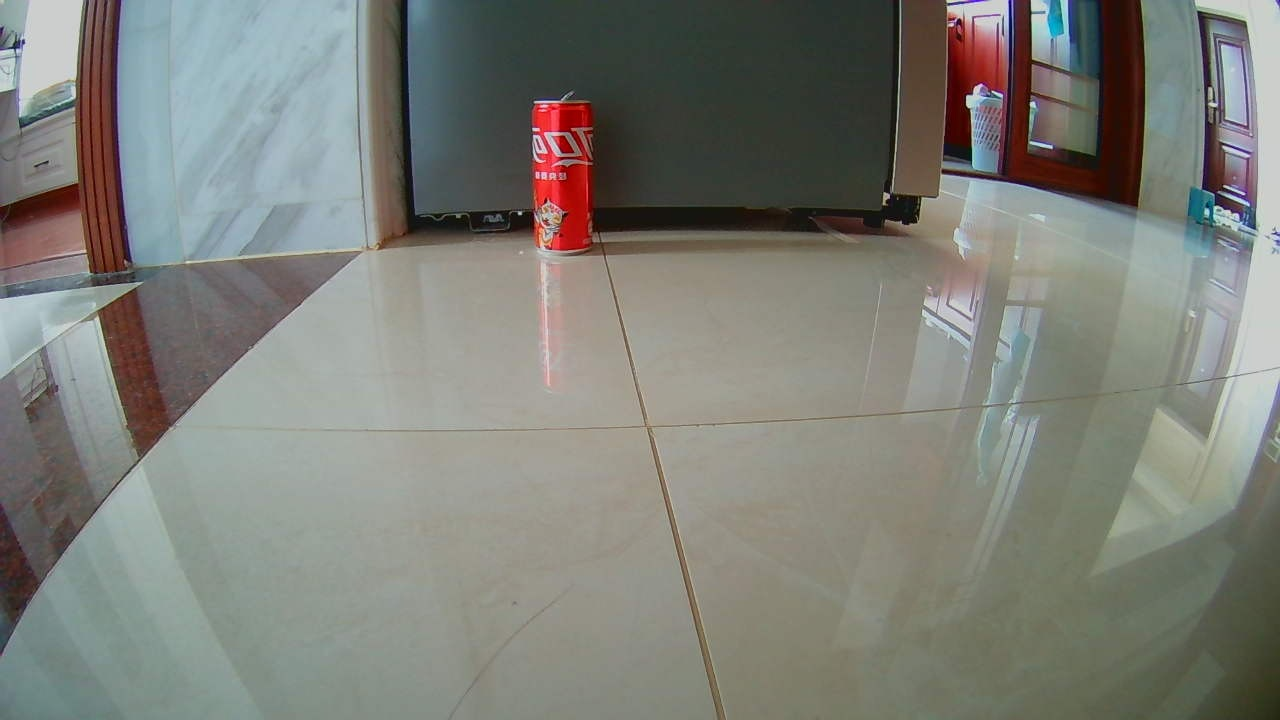cola: (529, 94, 593, 261)
